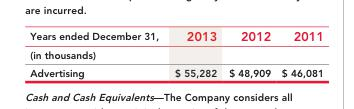table: (29, 28, 322, 78)
table column: (29, 28, 166, 78), (166, 28, 222, 78), (222, 28, 275, 78), (275, 28, 322, 78)
table column header: (29, 28, 322, 46)
table projected row header: (29, 46, 322, 63)
table row: (29, 28, 322, 46), (29, 46, 322, 63), (29, 63, 322, 78)
